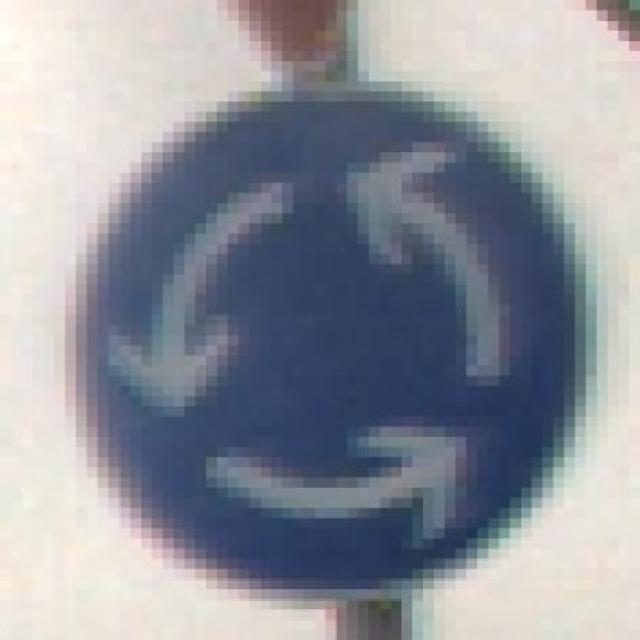Round-About: (32, 81, 618, 610)
